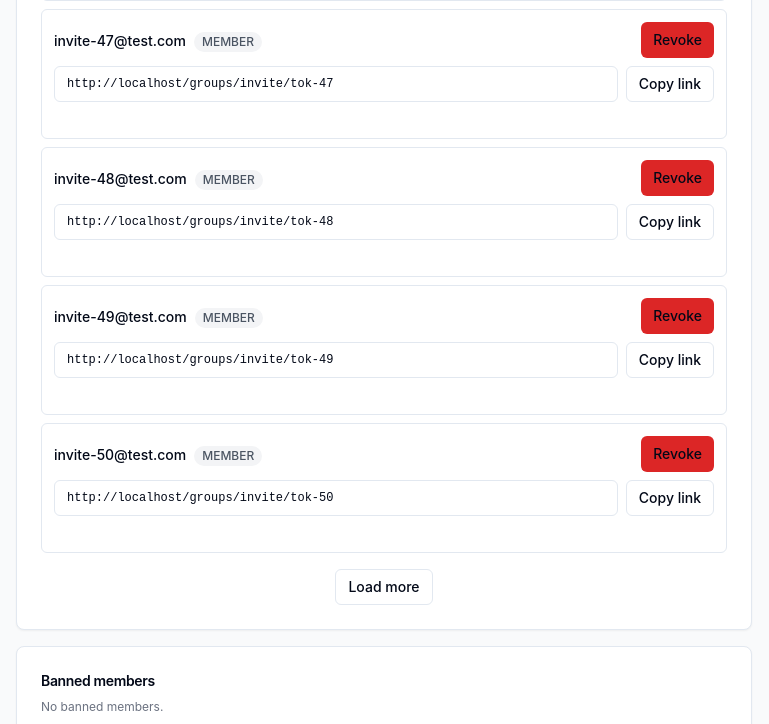
Test: GroupDetailPage › pending invite pagination › renders a duplicate invite id only once
(page scrolled)
Click the button "Load more": (384,587) [335,569,432,605]
(page scrolled)
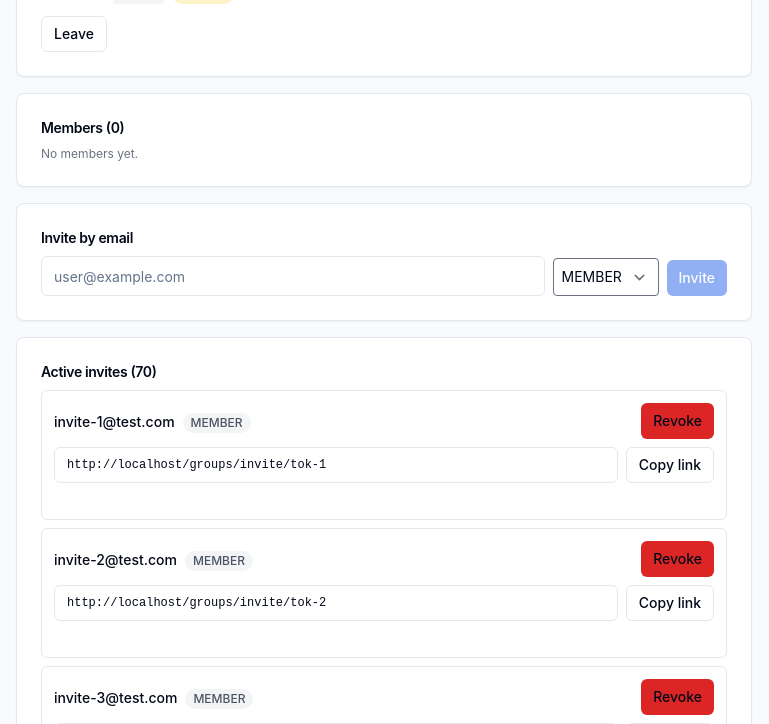
Expected: the heading "Active invites (70)" is shown, [41,363,157,380]
